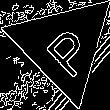P_NW: (32, 15, 94, 77)
